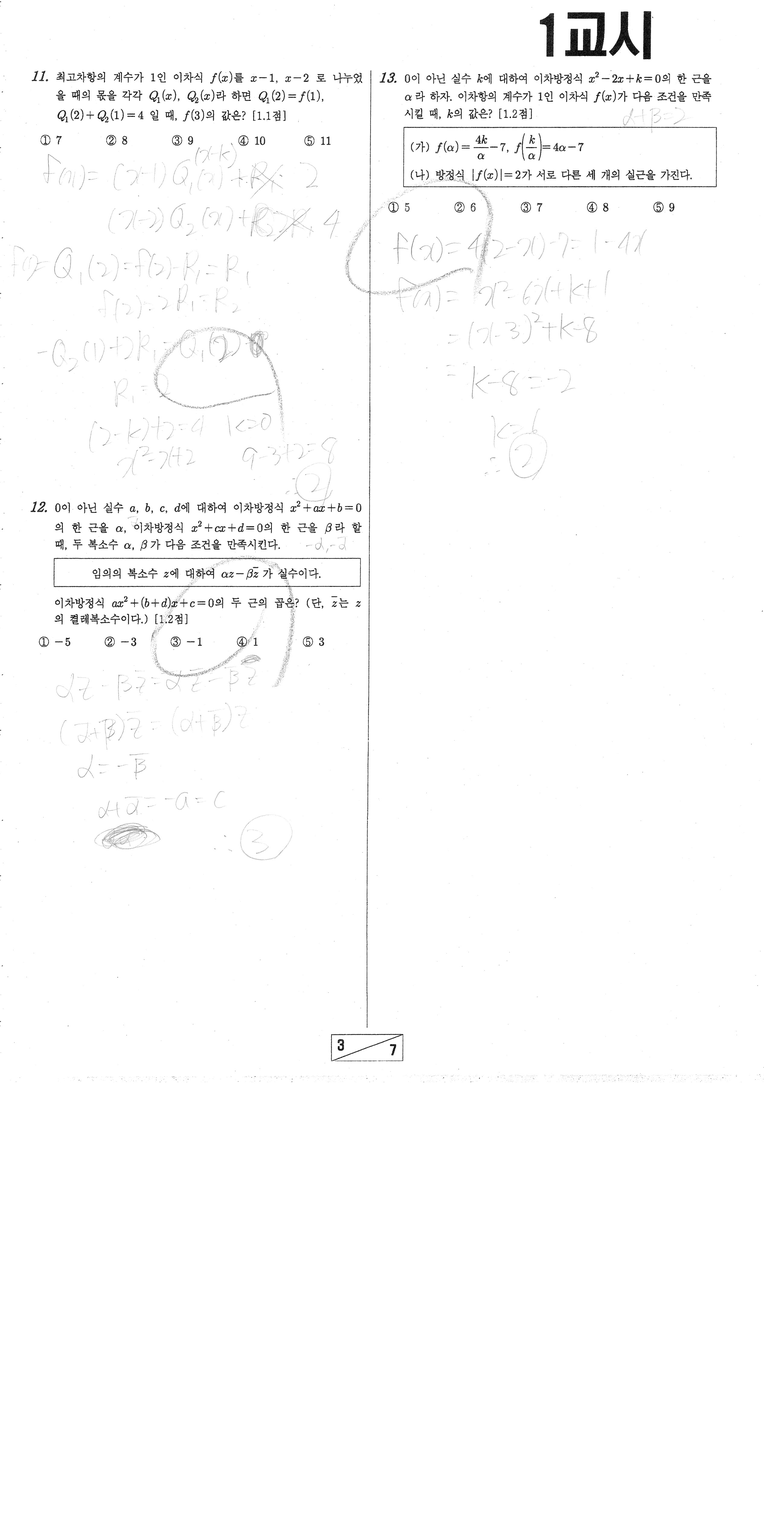problem: (28, 493, 365, 660), (376, 68, 723, 225), (28, 64, 365, 151)
